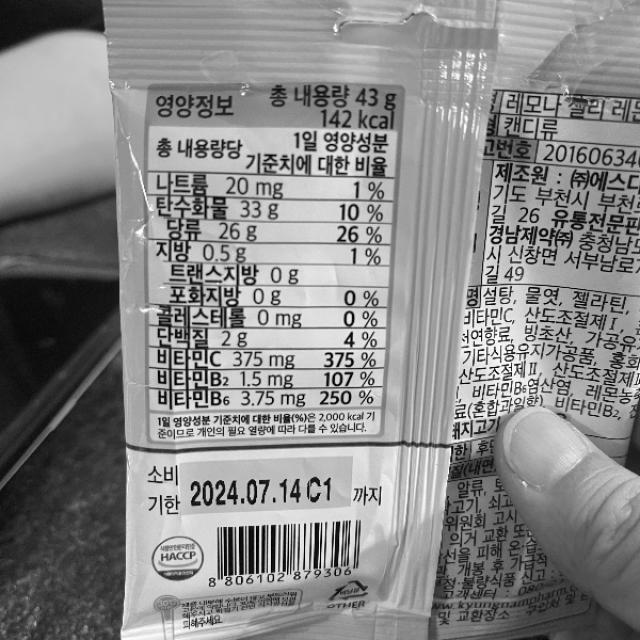Nutrition Label: (136, 72, 403, 457)
